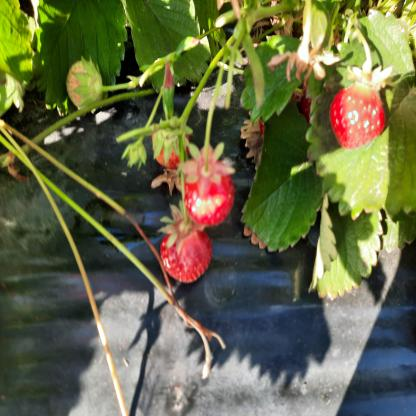ripe: (183, 154, 233, 225), (331, 83, 386, 145), (162, 225, 212, 282), (155, 131, 189, 166)
unripe: (68, 62, 102, 109)
